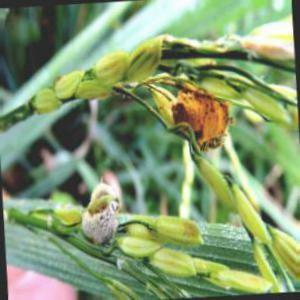Leaf_Scald: (166, 80, 236, 143)
